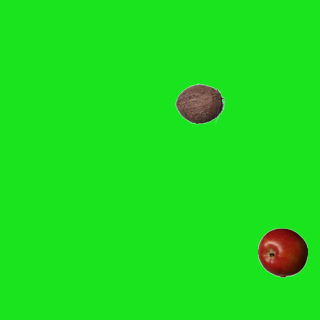Apple Braeburn: (257, 227, 307, 277)
Cocos: (174, 78, 224, 128)
